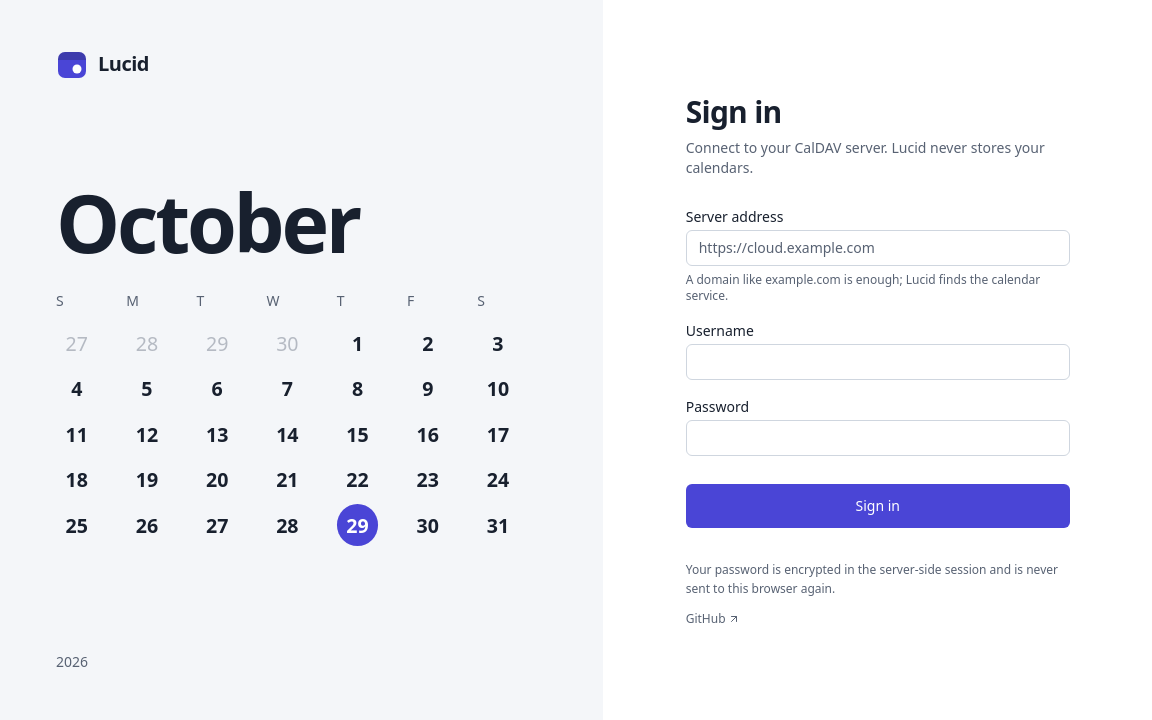
LoginPage › shows the reference of a failed login
In the field labelled "Server address": point(878, 248) [686, 230, 1070, 266], type "example.com"
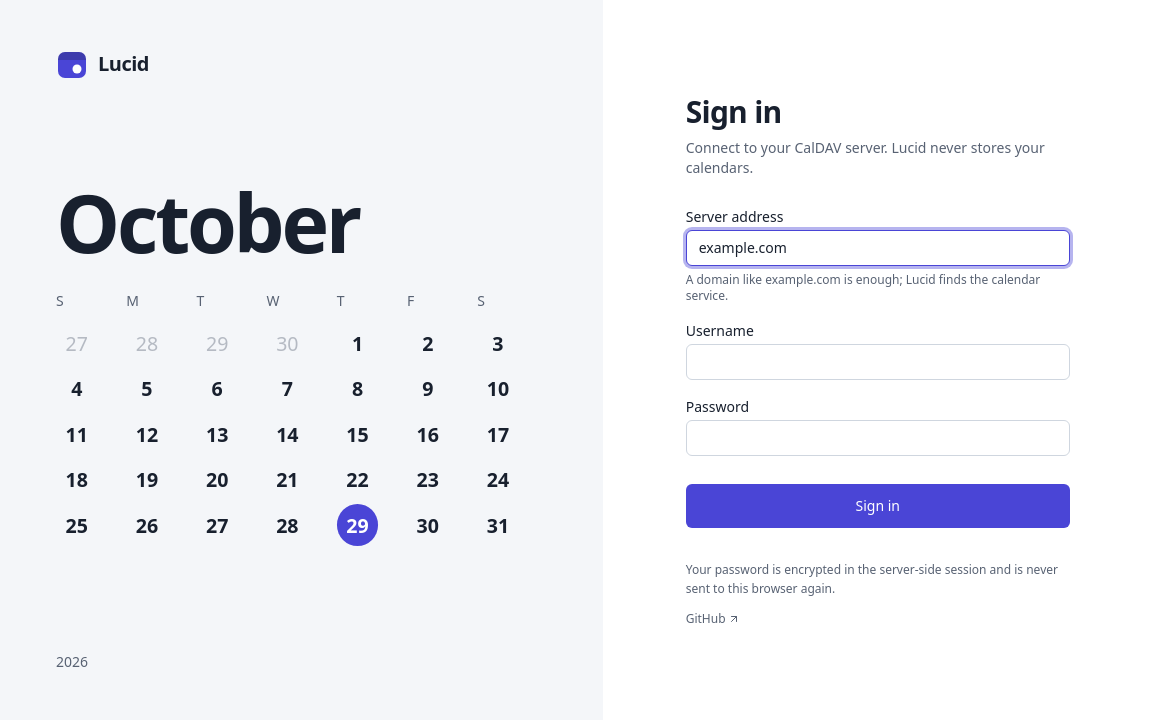
In the field labelled "Username": point(878, 362) [686, 344, 1070, 380], type "tim"
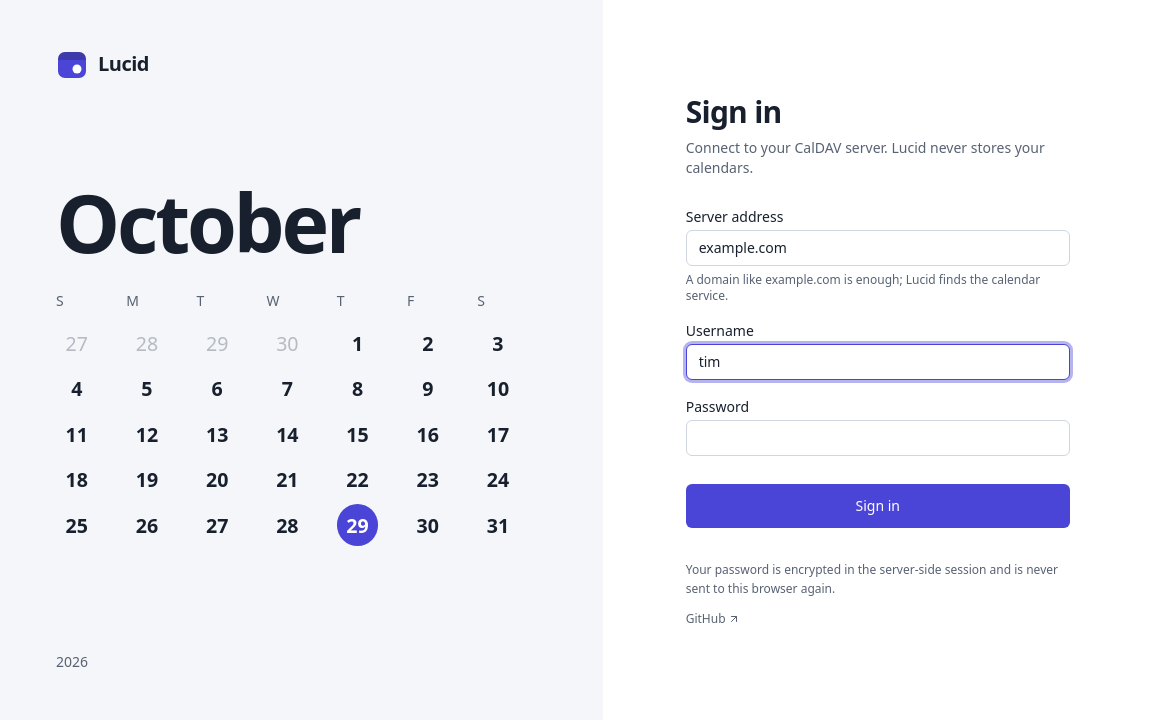
In the password field labelled "Password": point(878, 438) [686, 420, 1070, 456], type "pw"
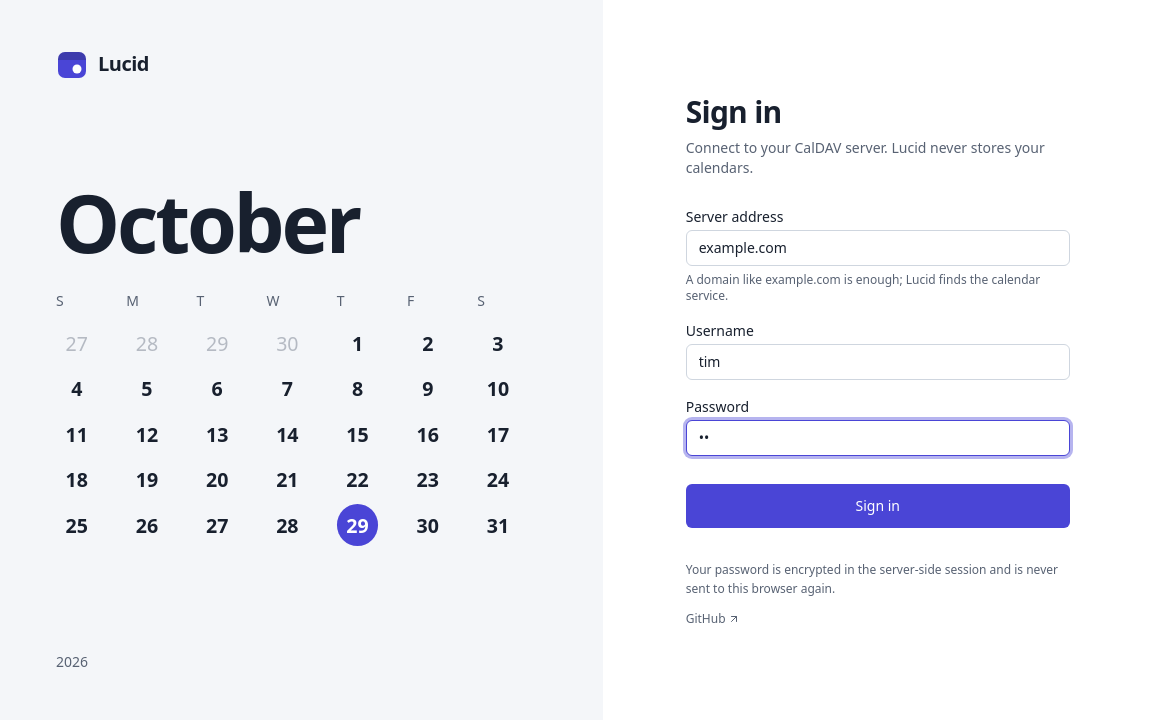
Click the button "Sign in": point(878, 506) [686, 484, 1070, 528]
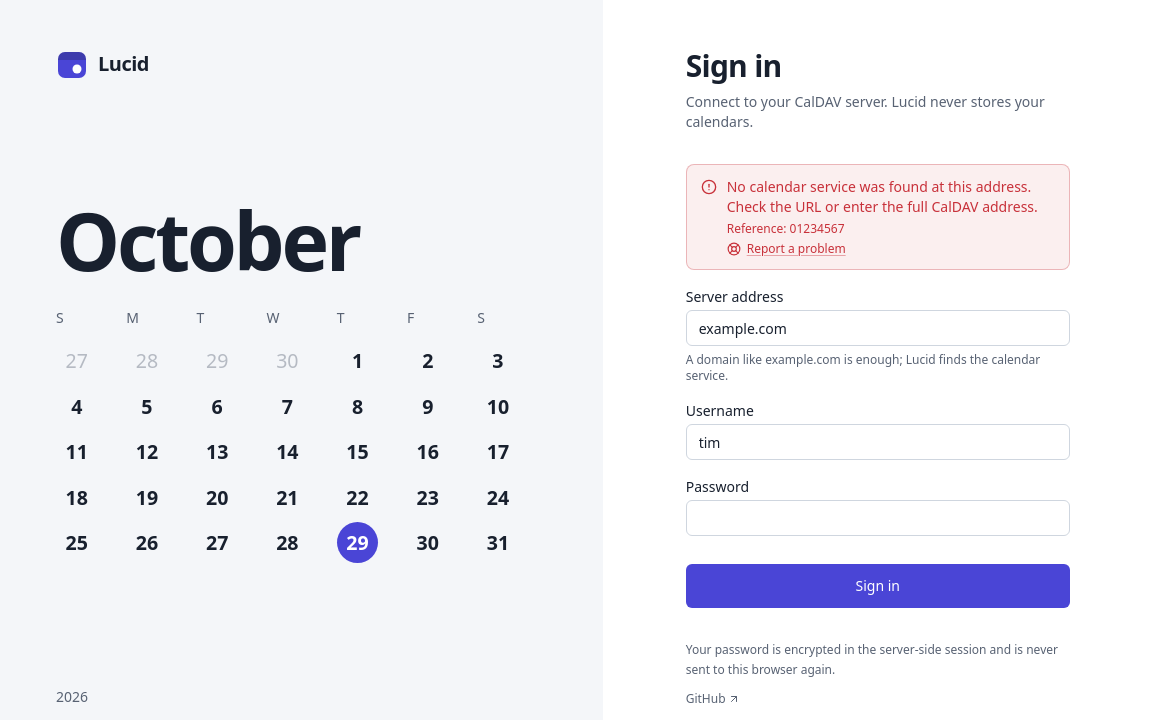
Expected: the message shows "No calendar service was found at this address.", [727, 177, 1038, 216]
Expected: the message shows "Reference: 01234567", [727, 220, 844, 237]
